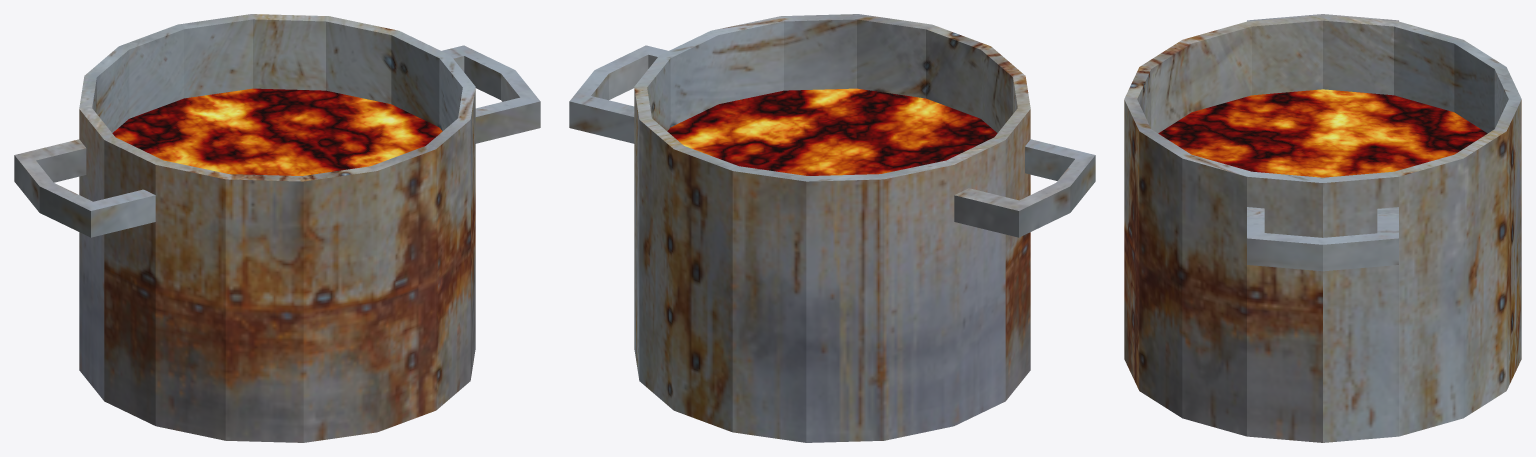
Rendered from Chilli1_1.fbx.
3 views of the same model, side by side, from view 1: azimuth 30°, elevation 25°; view 2: azimuth 150°, elevation 25°; view 3: azimuth 270°, elevation 25° (orthographic).
Parts seen in each view (by area): view 1: Cylinder; view 2: Cylinder; view 3: Cylinder.
Part boxes in pixels (box(x1,y1,x2,y2)): Cylinder: box(14, 14, 540, 442); Cylinder: box(569, 14, 1095, 442); Cylinder: box(1124, 14, 1521, 442).
Size of the model in its own units: 2166 by 1137 by 1576.
